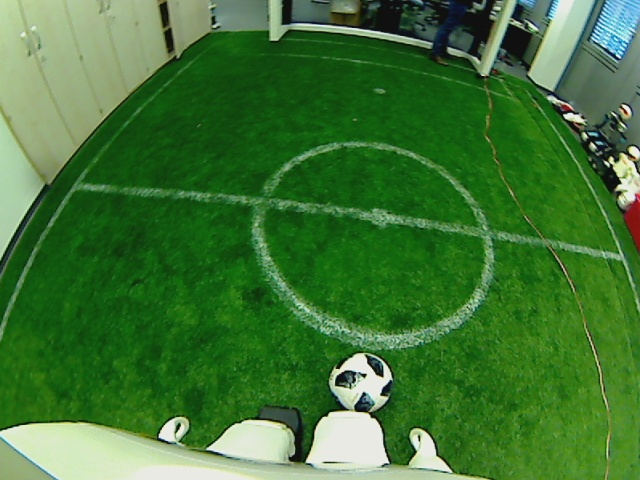ball: (326, 348, 397, 414)
